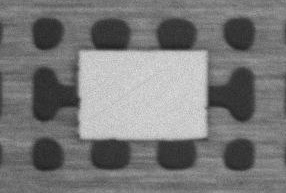DIE_CRACK: (129, 47, 240, 82)
